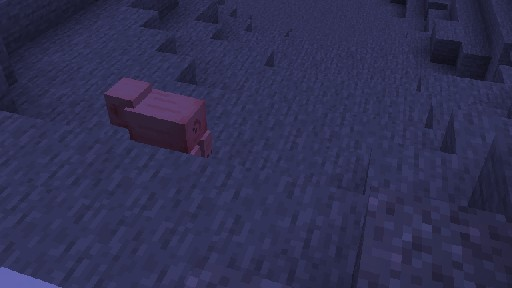pig: (103, 76, 212, 177)
